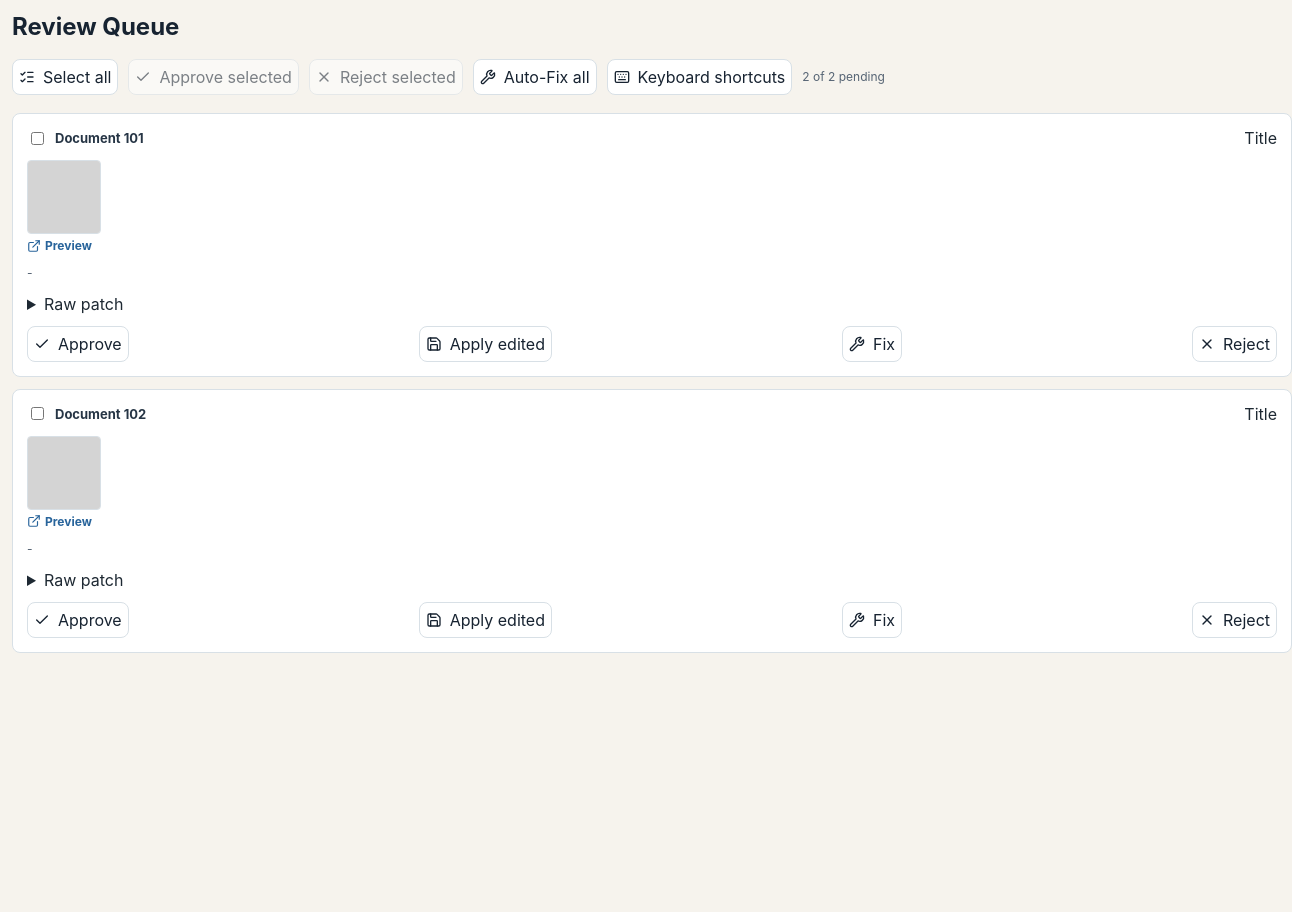
Test: <Reviews> behaviour › keeps the select-all label consistent after a reload removes selected items (#418)
The width and height of the screenshot is (1292, 912).
Expected: the text "Document 101" is shown, [55, 130, 144, 146]
Click the button "Select all". click: coordinates (65, 77)
box: [12, 59, 118, 95]
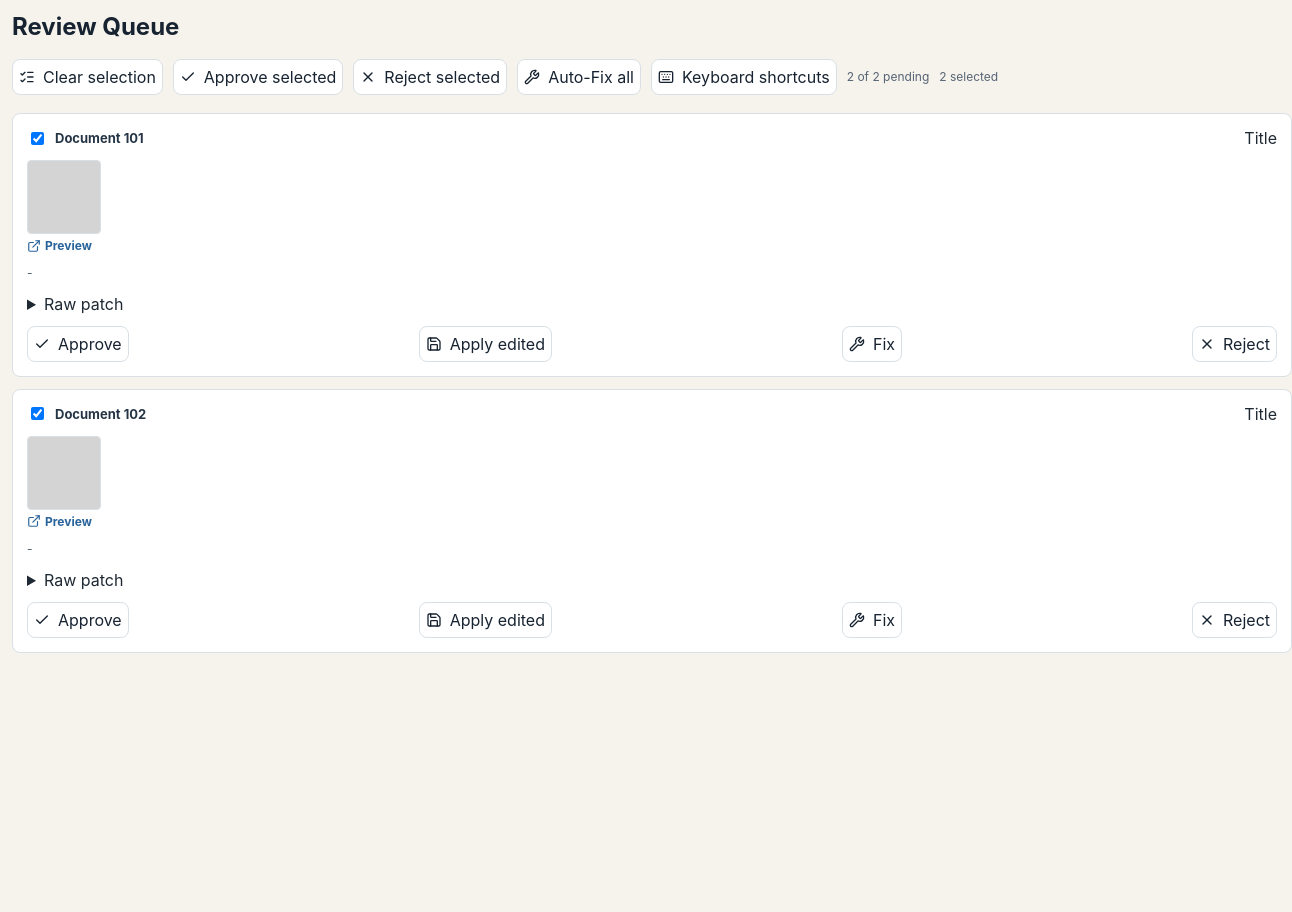
Click the 1st button "Reject". click: coordinates (1234, 344)
box: [1192, 326, 1277, 362]
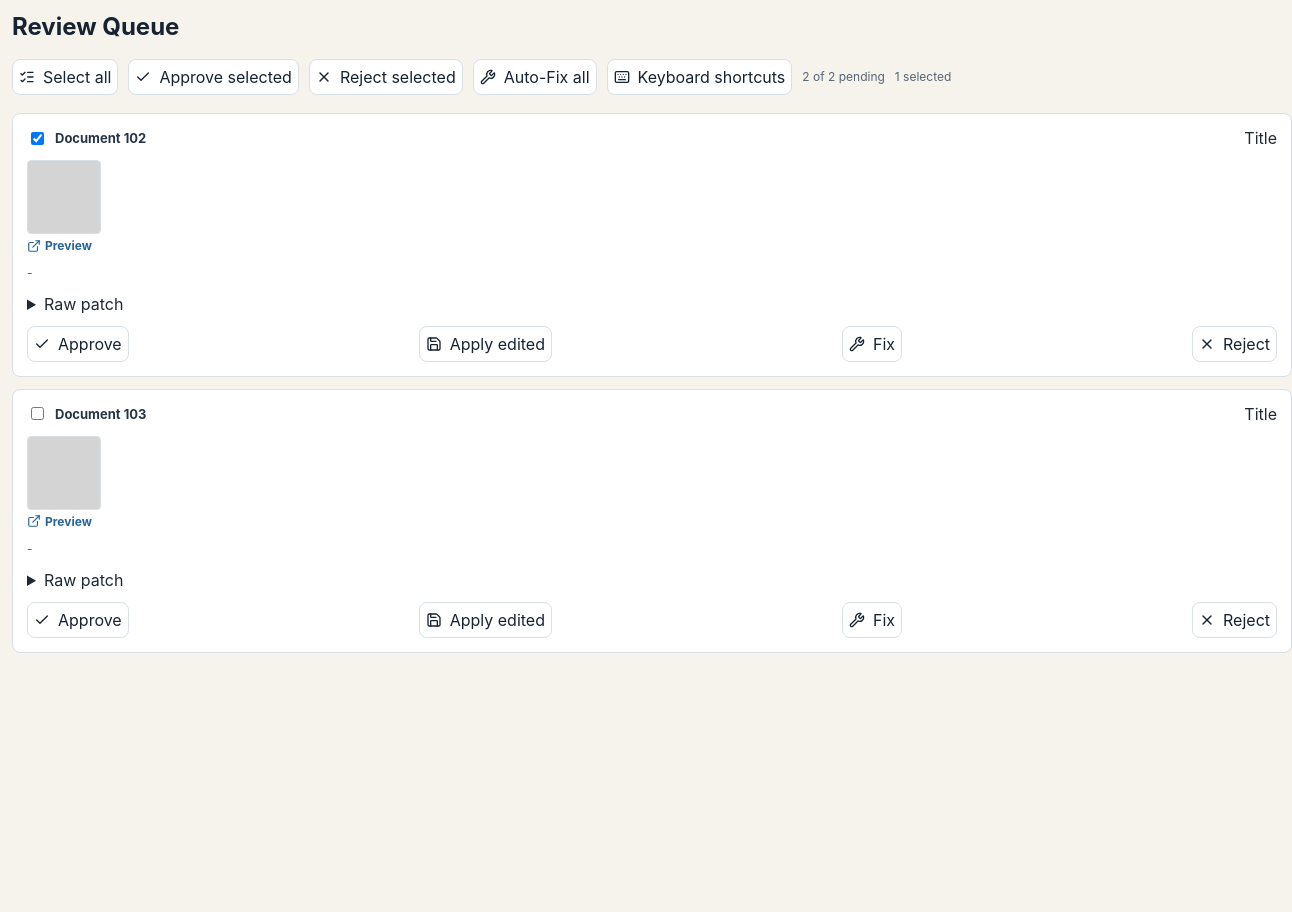
Result: the text "Document 103" is shown at [55, 406, 146, 422]
Result: the button "Select all" is shown at [12, 59, 118, 95]
Result: the text "1 selected" is shown at [895, 69, 951, 85]
